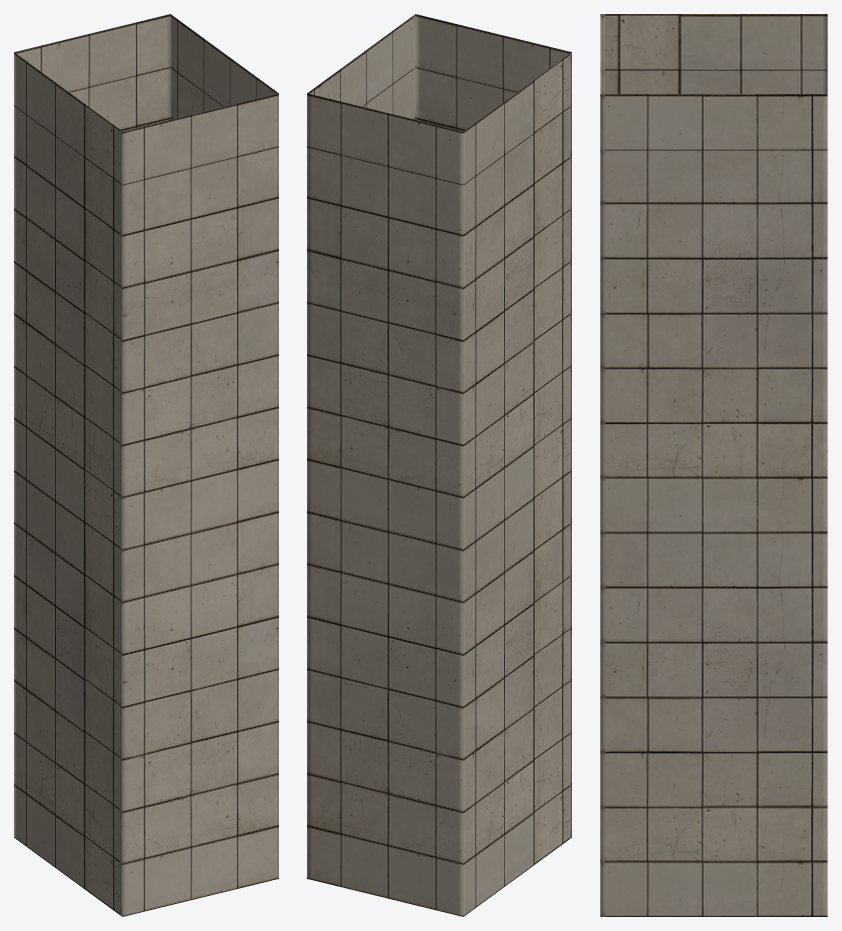
File: wall_pillar_tile.fbx
The picture shows the model from 3 angles, left to right: view 1: azimuth 30°, elevation 25°; view 2: azimuth 150°, elevation 25°; view 3: azimuth 270°, elevation 25°; orthographic projection. The views are drawn at different scales.
Parts seen in each view (by area): view 1: wall_pillar_tile; view 2: wall_pillar_tile; view 3: wall_pillar_tile.
Boxes of the visible parts, x1,y1,x2,y2 form: wall_pillar_tile: (14, 14, 278, 916); wall_pillar_tile: (307, 14, 571, 916); wall_pillar_tile: (600, 14, 827, 916).
Size of the model in its own units: 0.4 by 1.92 by 0.48.
